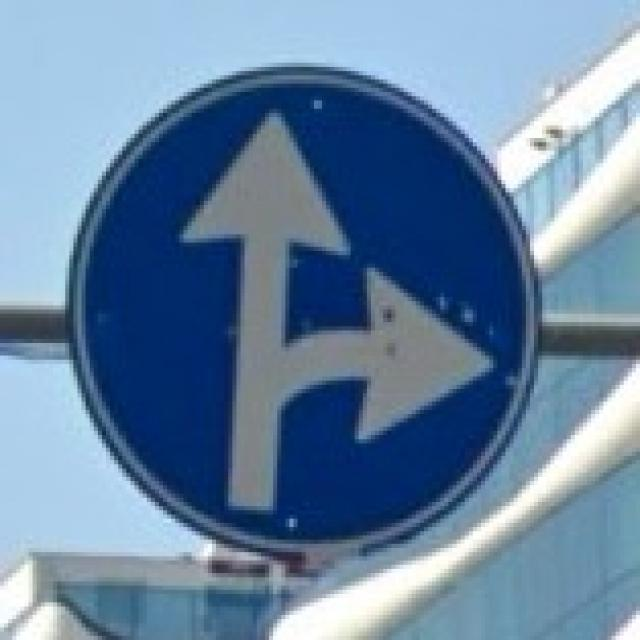Straight or Right: (70, 68, 539, 549)
